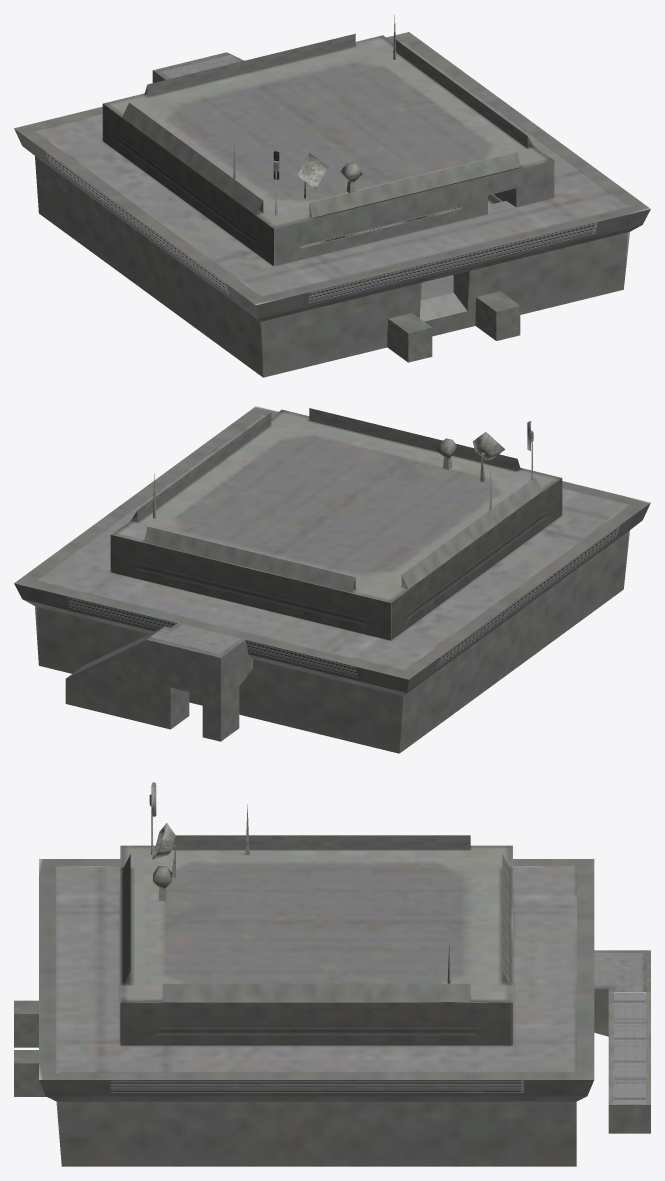
File: mun_all_military_base_police_station_impl_s01_r0_mesh_l2_r0.fbx
3 renders of one model, top to bottom at view 1: azimuth 30°, elevation 25°; view 2: azimuth 150°, elevation 25°; view 3: azimuth 270°, elevation 25°, orthographic. The views are drawn at different scales.
Parts seen in each view (by area): view 1: mesh_node; view 2: mesh_node; view 3: mesh_node.
Boxes of the visible parts, x1,y1,x2,y2 form: mesh_node: (14, 15, 650, 377); mesh_node: (14, 406, 650, 753); mesh_node: (14, 782, 650, 1166).
Bounding box in the file's own units: 49.31 × 22.07 × 60.
1 material, 1 textured.
